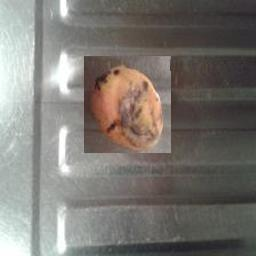Mango Rotten: (85, 56, 172, 153)
